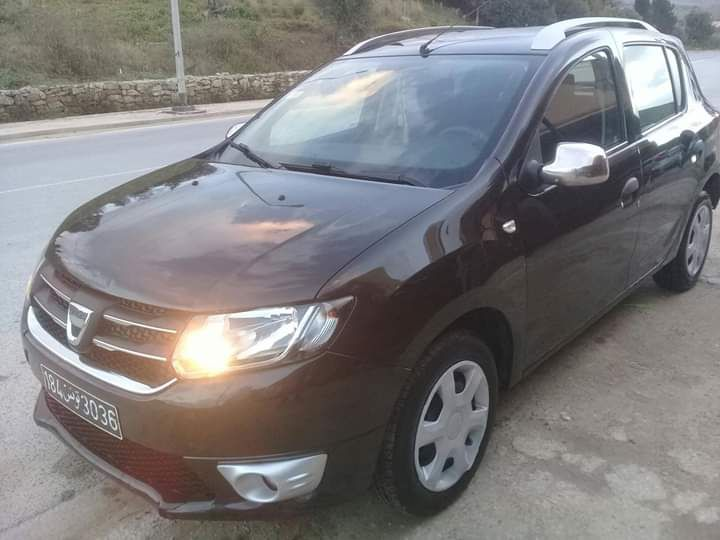LP: (40, 363, 121, 440)
